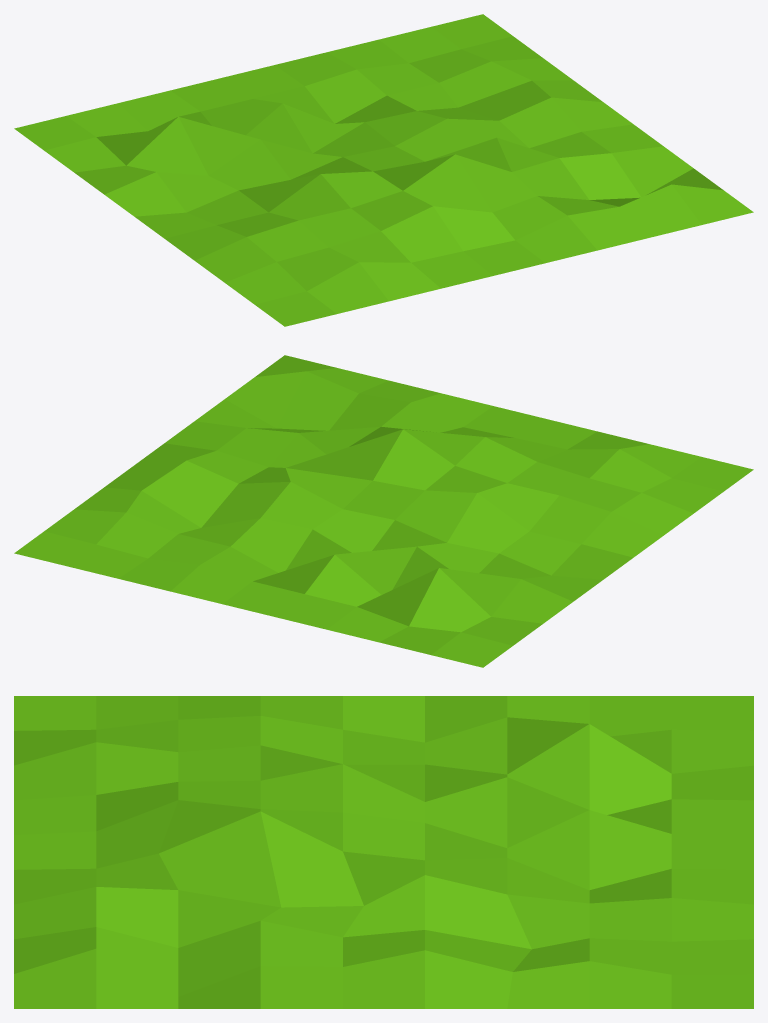
Rendered from hill_004.fbx.
3 renders of one model, top to bottom at view 1: azimuth 30°, elevation 25°; view 2: azimuth 150°, elevation 25°; view 3: azimuth 270°, elevation 25°, orthographic. The views are drawn at different scales.
Parts seen in each view (by area): view 1: Grid; view 2: Grid; view 3: Grid.
Part boxes in pixels (x1,y1,x2,y2): Grid: [14, 14, 753, 326]; Grid: [14, 355, 753, 667]; Grid: [14, 696, 753, 1008].
Size of the model in its own units: 600 by 72.67 by 600.
